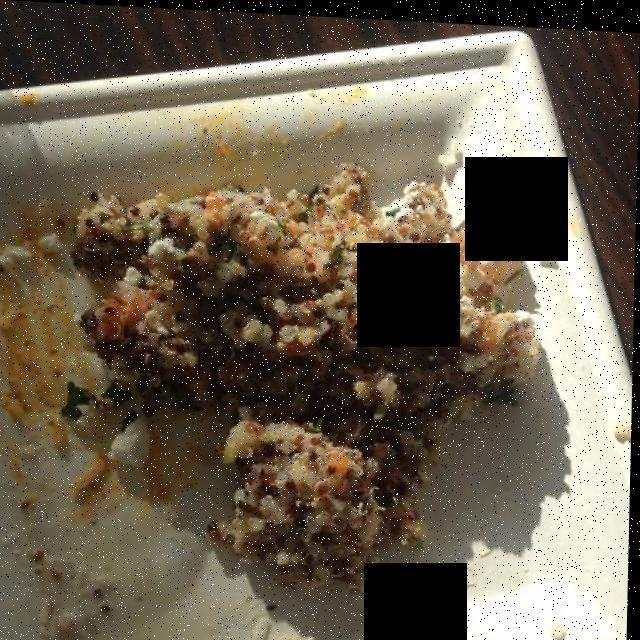quinoa: (20, 172, 531, 575)
